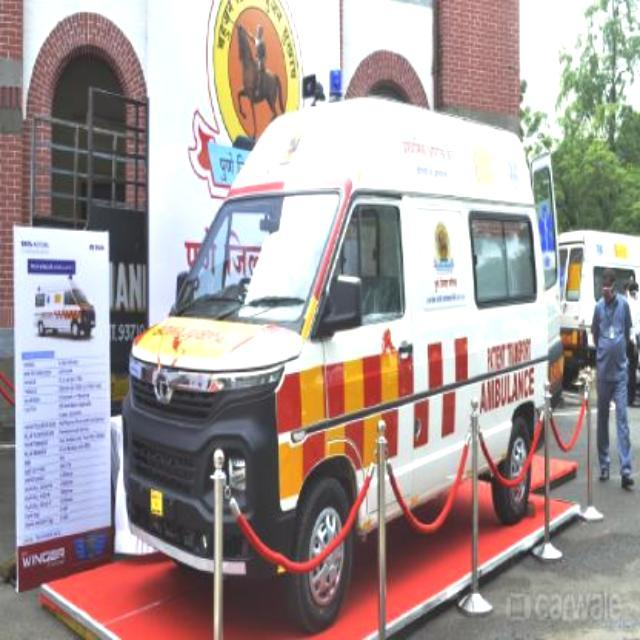emergency-vehicle: (122, 92, 552, 624)
